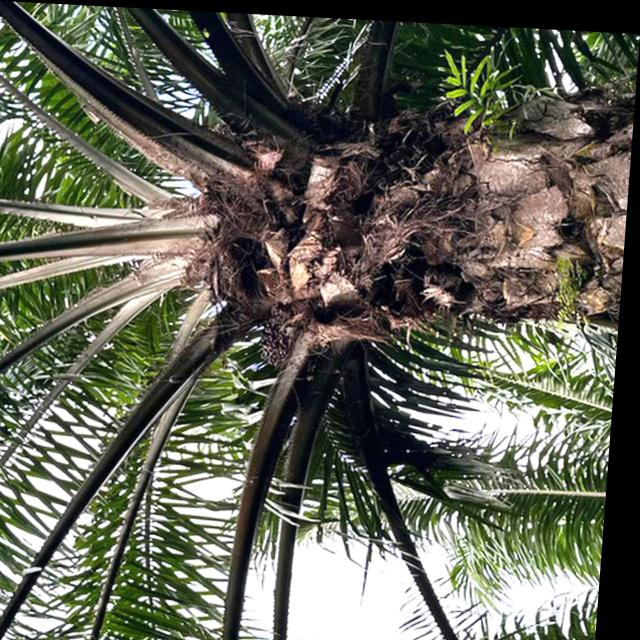ripe: (255, 306, 313, 371)
